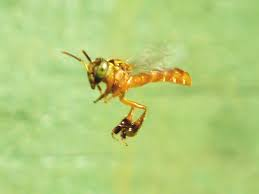jataí: (50, 36, 206, 161)
